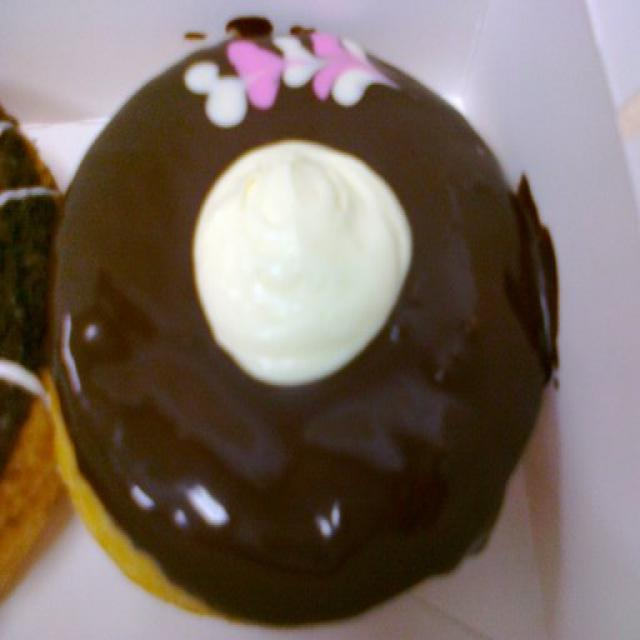Donuts: (25, 15, 640, 631)
